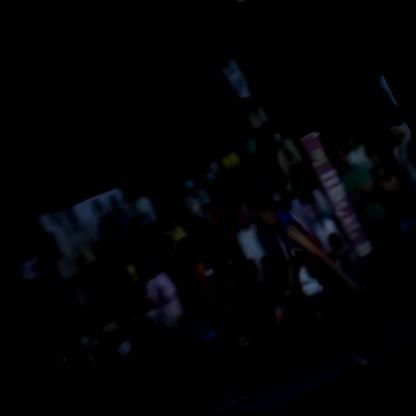basketball: (258, 294, 308, 363)
